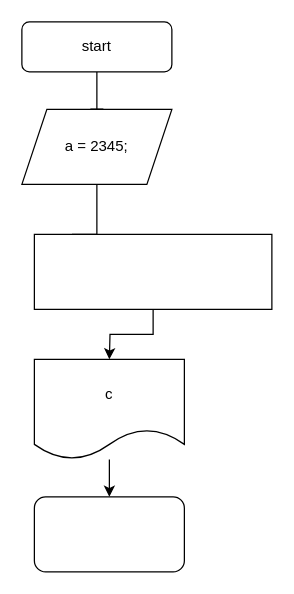
The diagram is 294 pixels wide and 594 high, and some of its shapes have lost their labels. The shapes that lost their labels are listed below. From the top down, each one's centre as x and y in pixels, then its label:
At point 152,271: "b = a + 40000; c = (b * 100 + 44) * 44 / 100.0;".
At point 108,534: "end".
